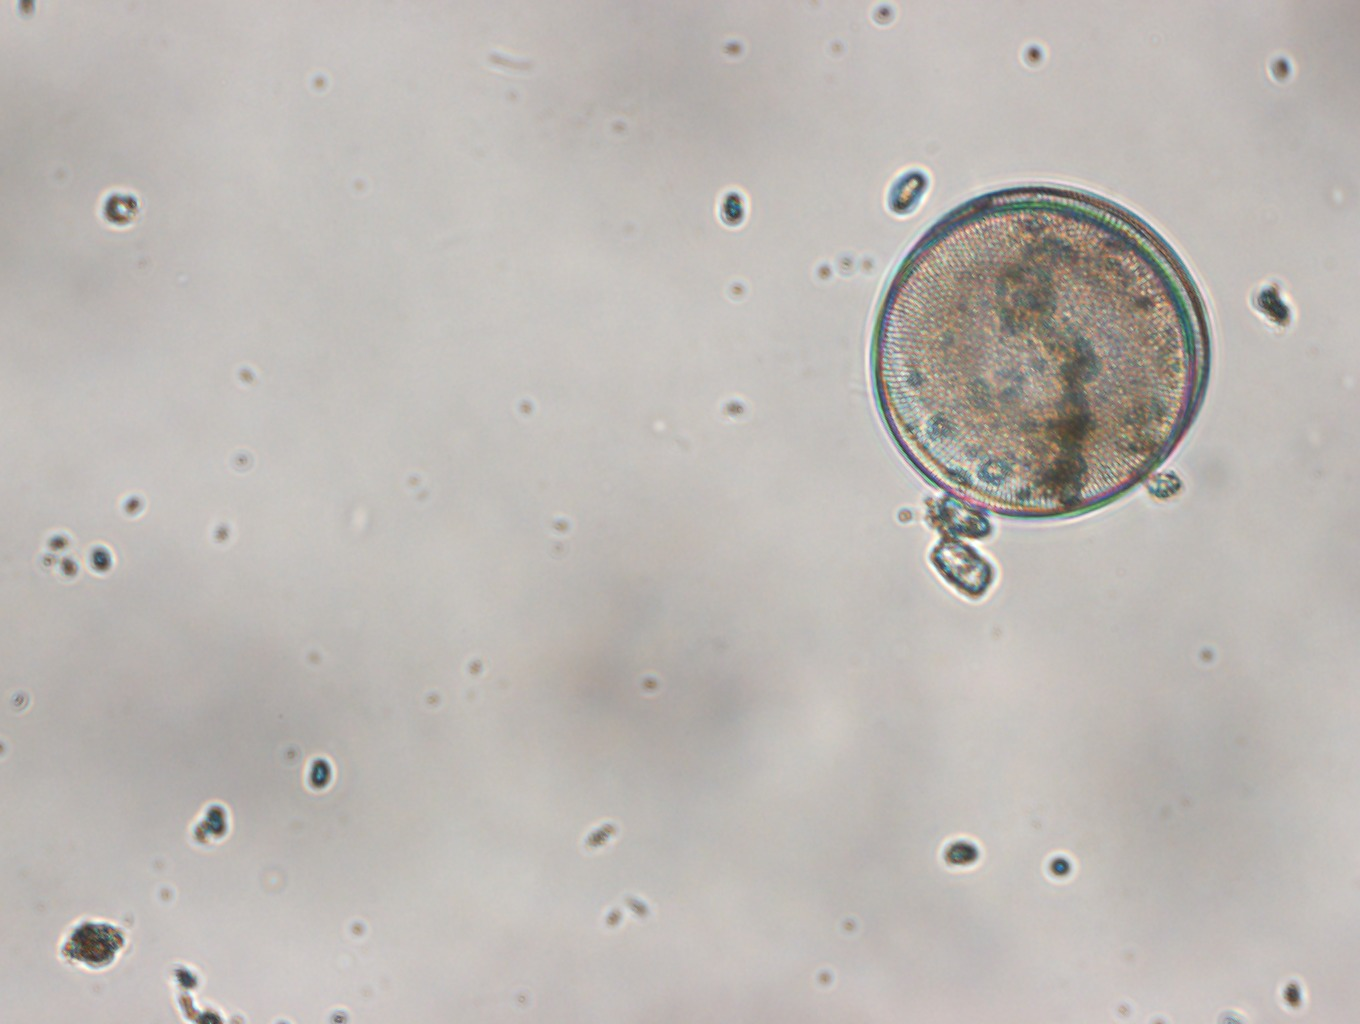coscinodiscus: (865, 181, 1212, 522)
